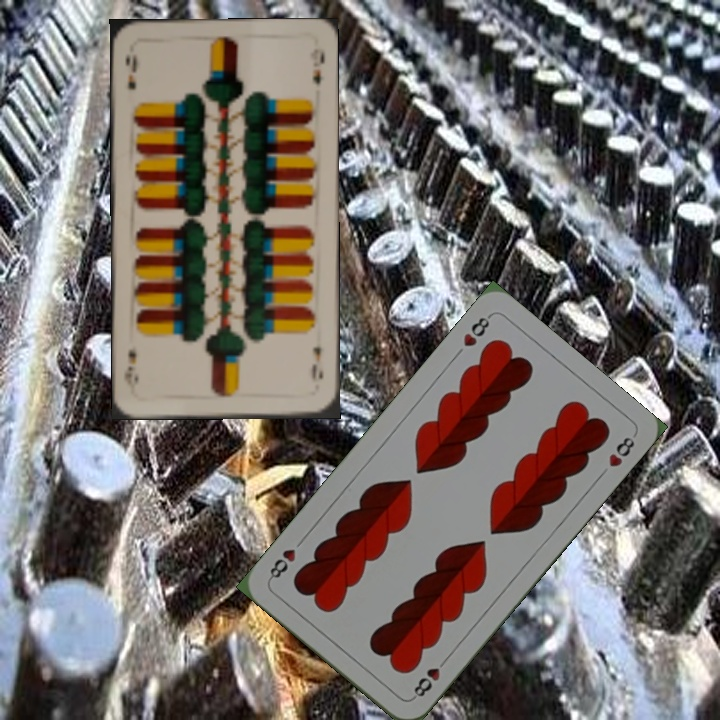E9: (122, 50, 140, 92), (307, 342, 325, 383)
H8: (408, 653, 451, 702), (459, 310, 494, 350)
